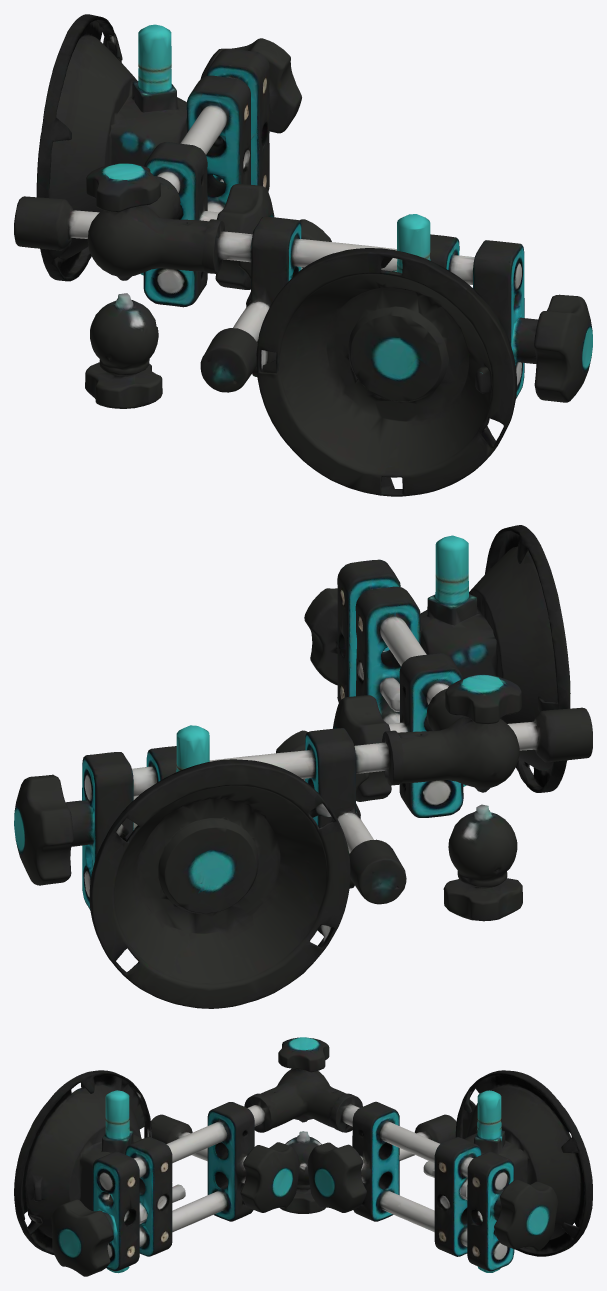
Rendered from tile-gap-adjuster-with-suction-cups.glb.
3 views of the same model, one above another, from view 1: azimuth 30°, elevation 25°; view 2: azimuth 150°, elevation 25°; view 3: azimuth 270°, elevation 25° (orthographic). The views are drawn at different scales.
Parts seen in each view (by area): view 1: tripo_node_c0df82de-d909-4792-8a67-751fc8829e58; view 2: tripo_node_c0df82de-d909-4792-8a67-751fc8829e58; view 3: tripo_node_c0df82de-d909-4792-8a67-751fc8829e58.
Part boxes in pixels (x1,y1,x2,y2): tripo_node_c0df82de-d909-4792-8a67-751fc8829e58: [14, 14, 592, 496]; tripo_node_c0df82de-d909-4792-8a67-751fc8829e58: [14, 525, 592, 1008]; tripo_node_c0df82de-d909-4792-8a67-751fc8829e58: [14, 1037, 592, 1276].
Bounding box in the file's own units: 0.5059 × 0.3381 × 1.
1 material, 1 textured.
